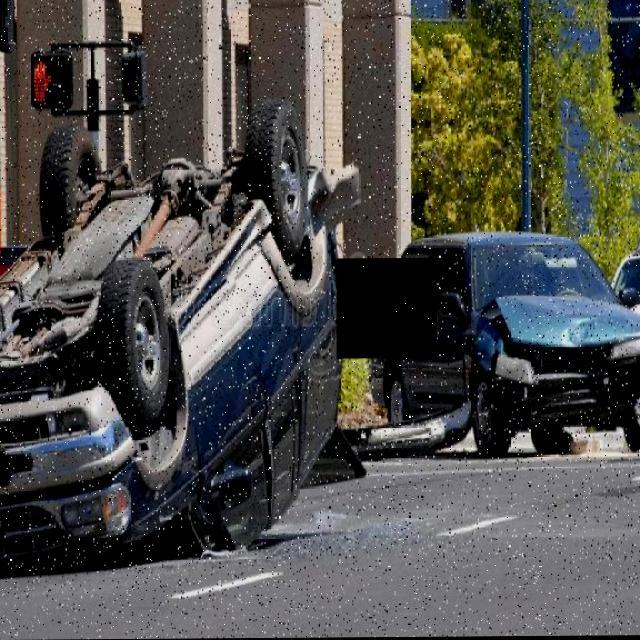multiple_accident: (0, 65, 640, 593)
